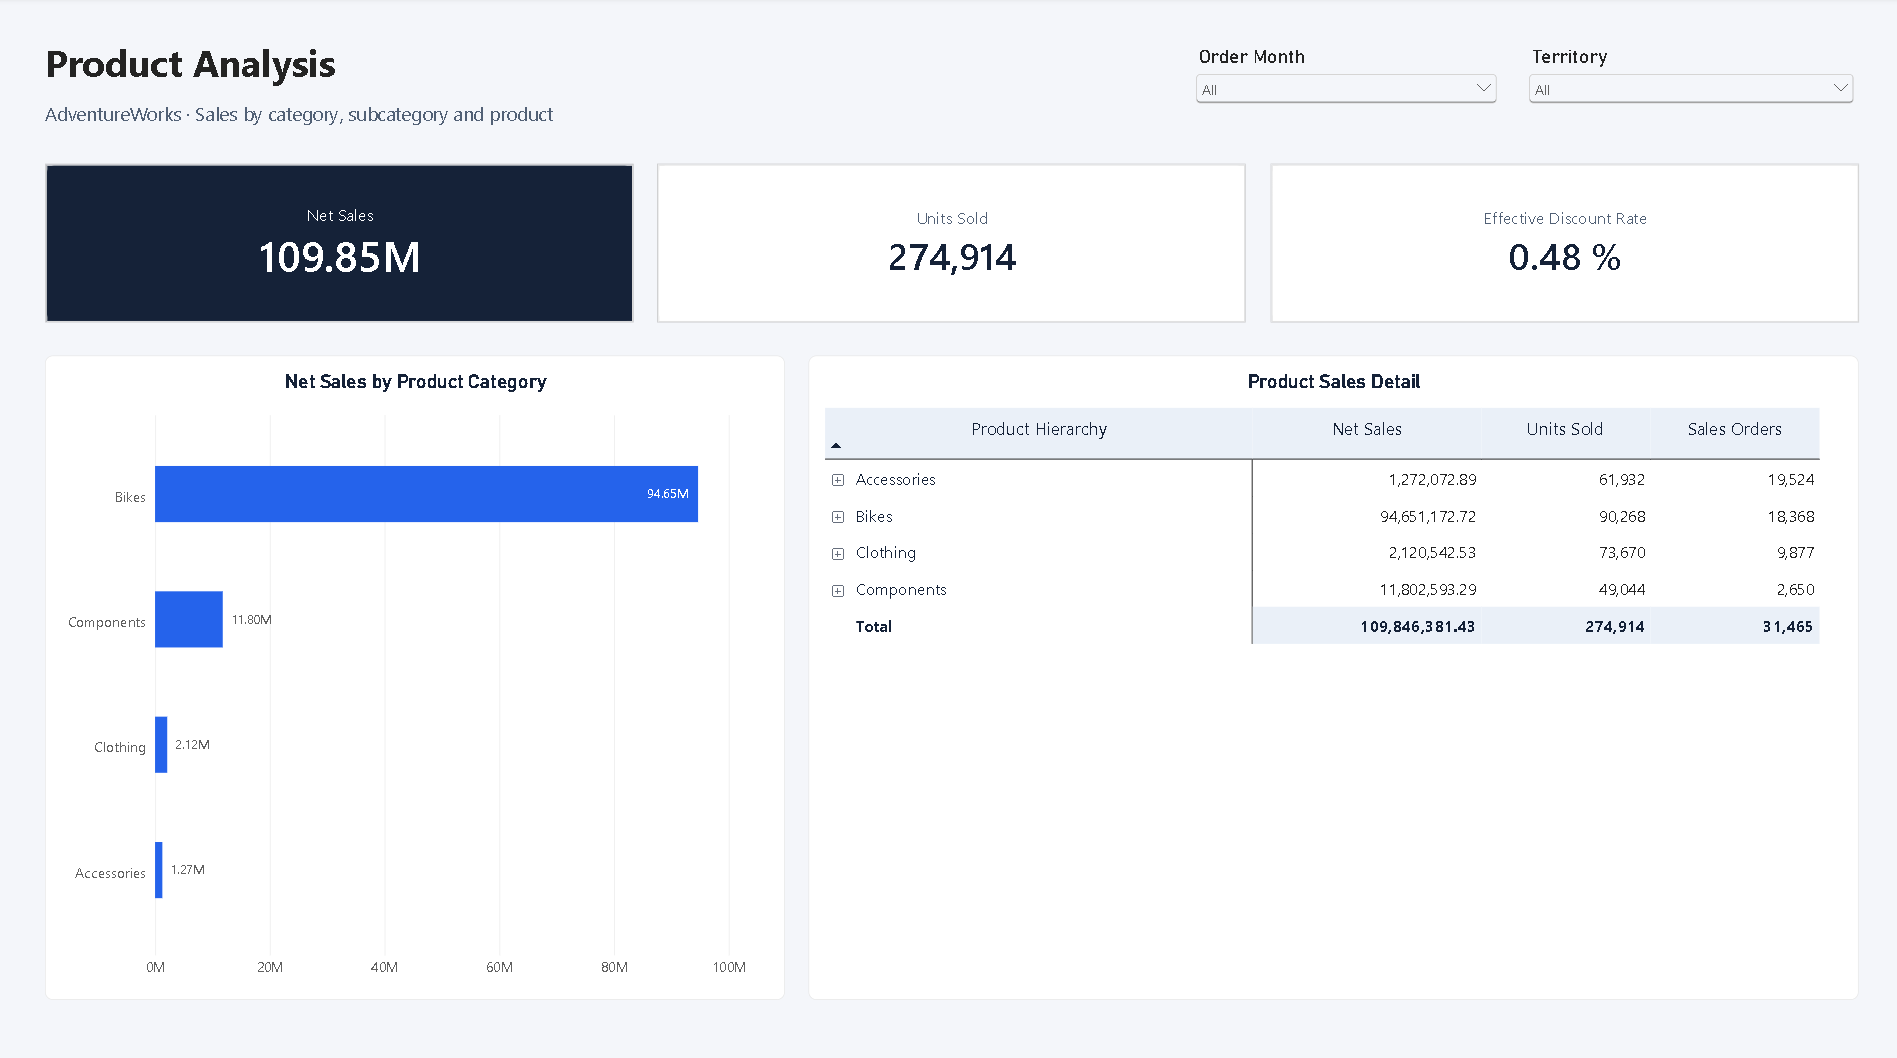

This screenshot's page, from the dashboard's own definition file:
{"tool":"powerbi","page":{"name":"Product Analysis","canvas":[1920,1080],"ordinal":2},"visuals":[{"type":"cardVisual","fields":{"Data":["_Measures.Net Sales"]},"box":[48,168,592,160],"z":0},{"type":"cardVisual","fields":{"Data":["_Measures.Units Sold"]},"box":[664,168,592,160],"z":1},{"type":"cardVisual","fields":{"Data":["_Measures.Effective Discount Rate"]},"box":[1280,168,592,160],"z":2},{"type":"clusteredBarChart","title":"Net Sales by Product Category","fields":{"Category":["DimProduct.CategoryName"],"Y":["_Measures.Net Sales"]},"box":[48,360,744,648],"z":3},{"type":"slicer","fields":{"Values":["DimDate.YearMonth"]},"box":[1200,48,312,88],"z":4},{"type":"slicer","fields":{"Values":["DimTerritory.TerritoryName"]},"box":[1536,48,336,88],"z":5},{"type":"pivotTable","title":"Product Sales Detail","fields":{"Rows":["DimProduct.CategoryName","DimProduct.SubcategoryName","DimProduct.ProductName"],"Values":["_Measures.Net Sales","_Measures.Units Sold","_Measures.Sales Orders"]},"box":[816,360,1056,648],"z":6},{"type":"textbox","box":[48,40,750,60],"z":7},{"type":"textbox","box":[48,104,1050,36],"z":8}]}

Visuals, with their boxes in screenshot pixels (x1, y1, x2, y2), scaled from the page's 1920x1080 canvas onto the 1897x1058 screenshot:
cardVisual - _Measures.Net Sales: [x1=47, y1=165, x2=632, y2=321]
cardVisual - _Measures.Units Sold: [x1=656, y1=165, x2=1241, y2=321]
cardVisual - _Measures.Effective Discount Rate: [x1=1265, y1=165, x2=1850, y2=321]
"Net Sales by Product Category" clusteredBarChart: [x1=47, y1=353, x2=783, y2=987]
slicer - DimDate.YearMonth: [x1=1186, y1=47, x2=1494, y2=133]
slicer - DimTerritory.TerritoryName: [x1=1518, y1=47, x2=1850, y2=133]
"Product Sales Detail" pivotTable: [x1=806, y1=353, x2=1850, y2=987]
textbox: [x1=47, y1=39, x2=788, y2=98]
textbox: [x1=47, y1=102, x2=1085, y2=137]
